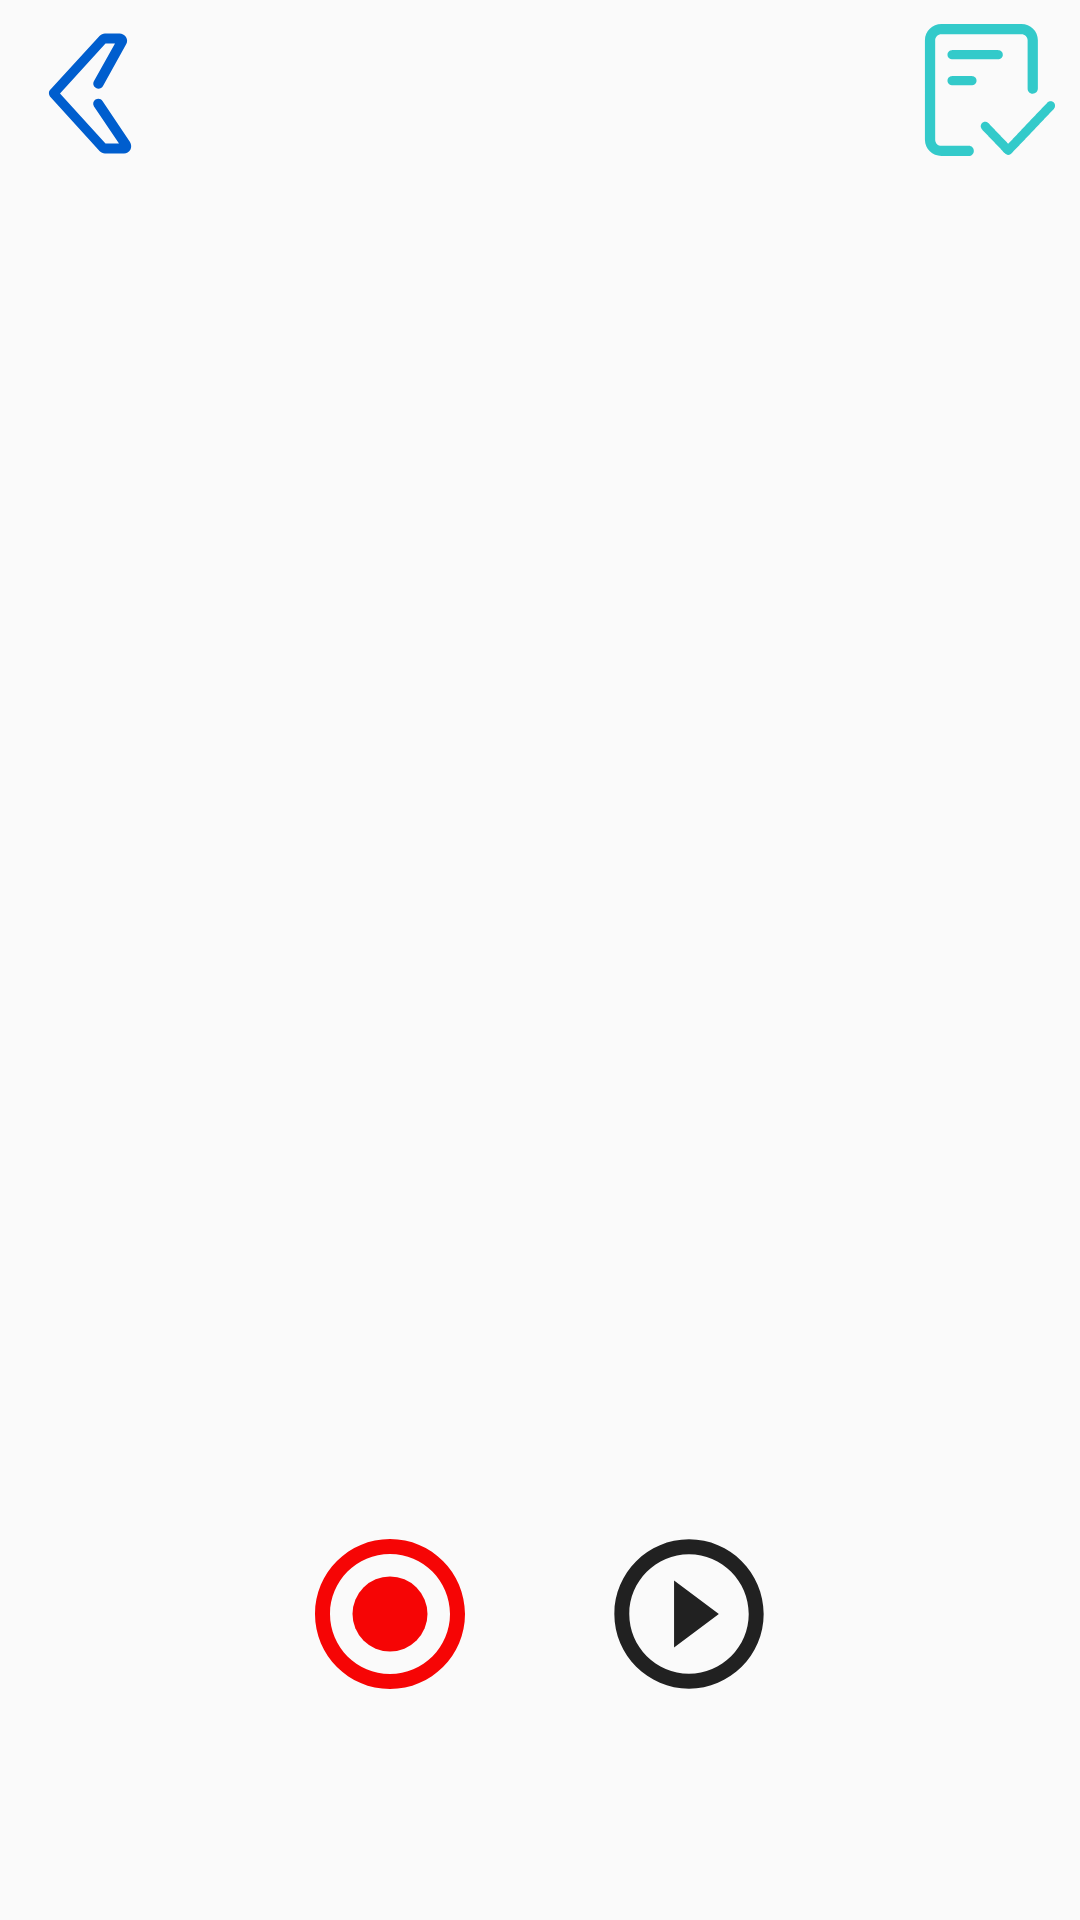

Screen size 1080px×1920px. Icon name, then its box in pixels as (x1, y1, x2, y2):
back: (49, 33, 132, 154)
complete: (925, 24, 1055, 156)
play: (614, 1539, 764, 1689)
record: (315, 1539, 465, 1689)
